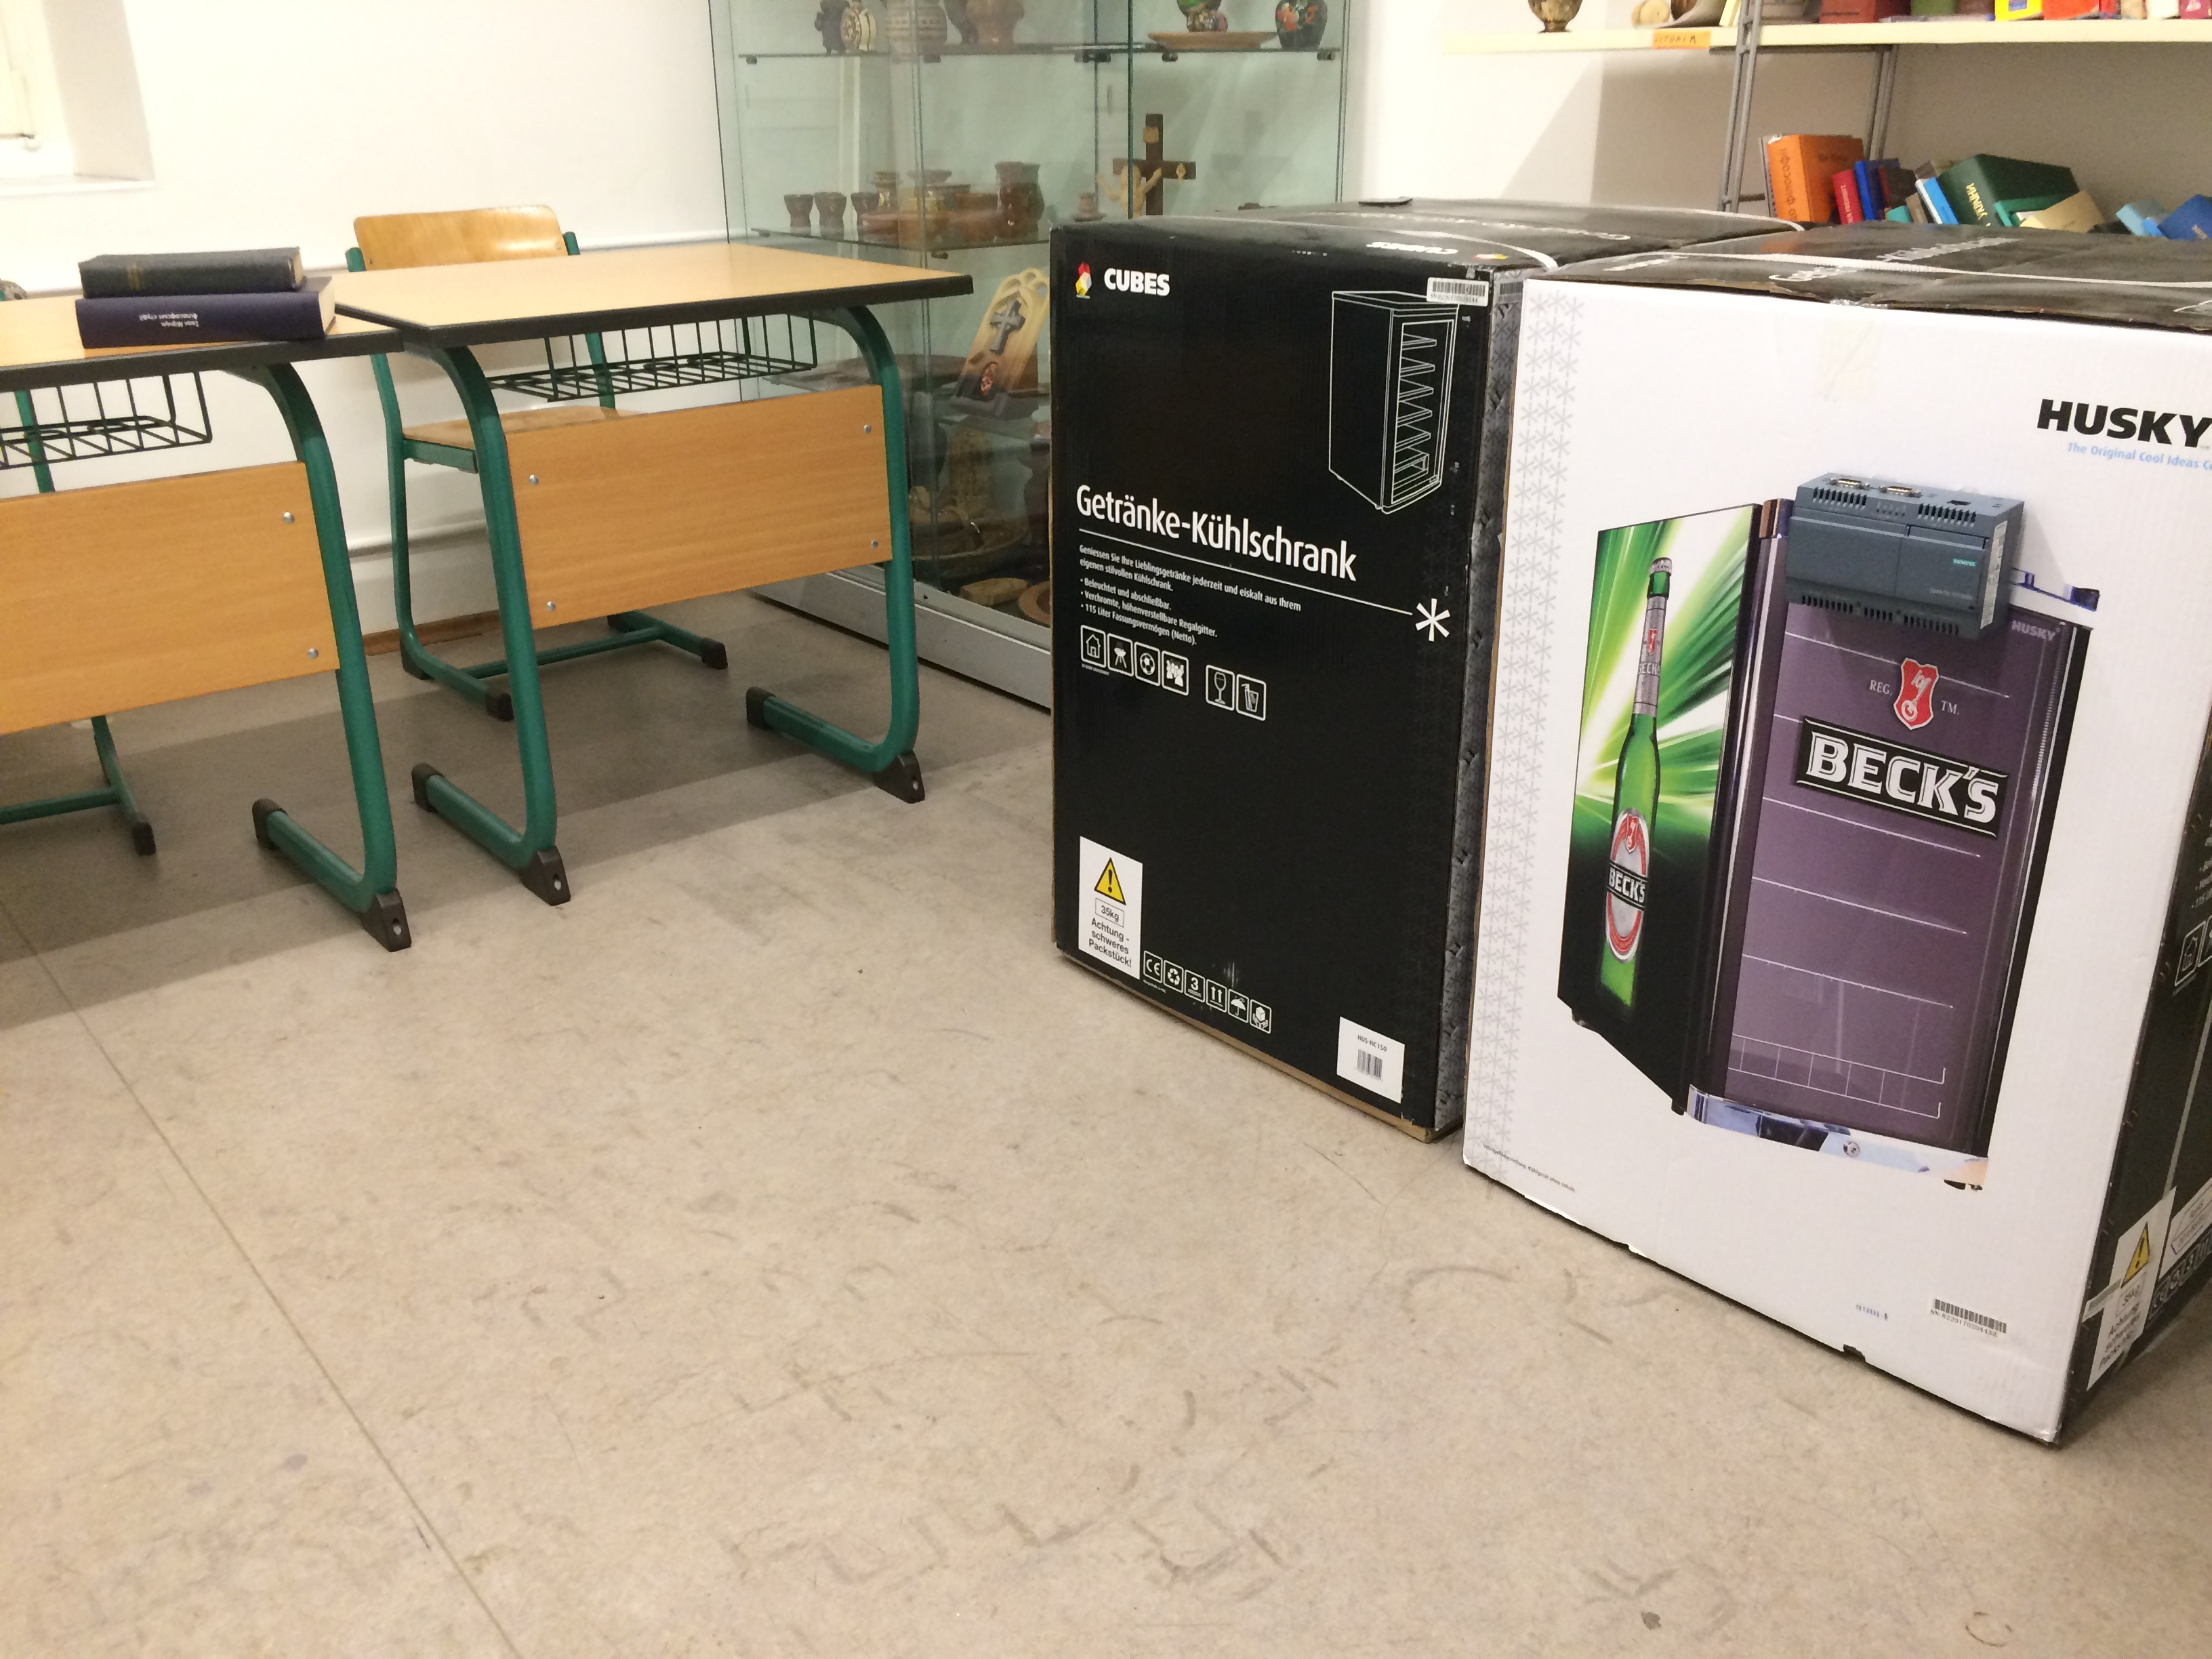iot2000: (1782, 472, 2027, 648)
